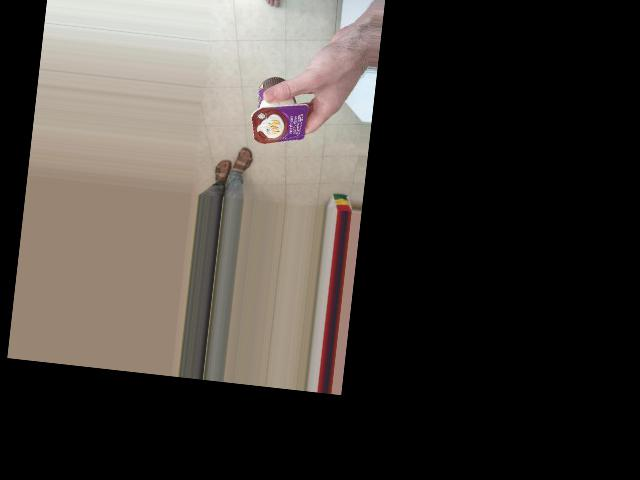milky: (247, 71, 317, 151)
